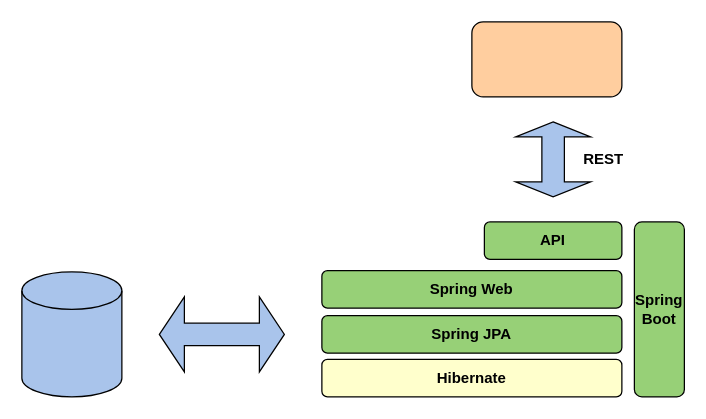
This 706x419 diagram has some shape labels left out. The box of each missing label's shape, as (x1, y1, x2, y2) in pixels:
H2 Database: (21, 271, 122, 397)
UI: (471, 21, 622, 97)
